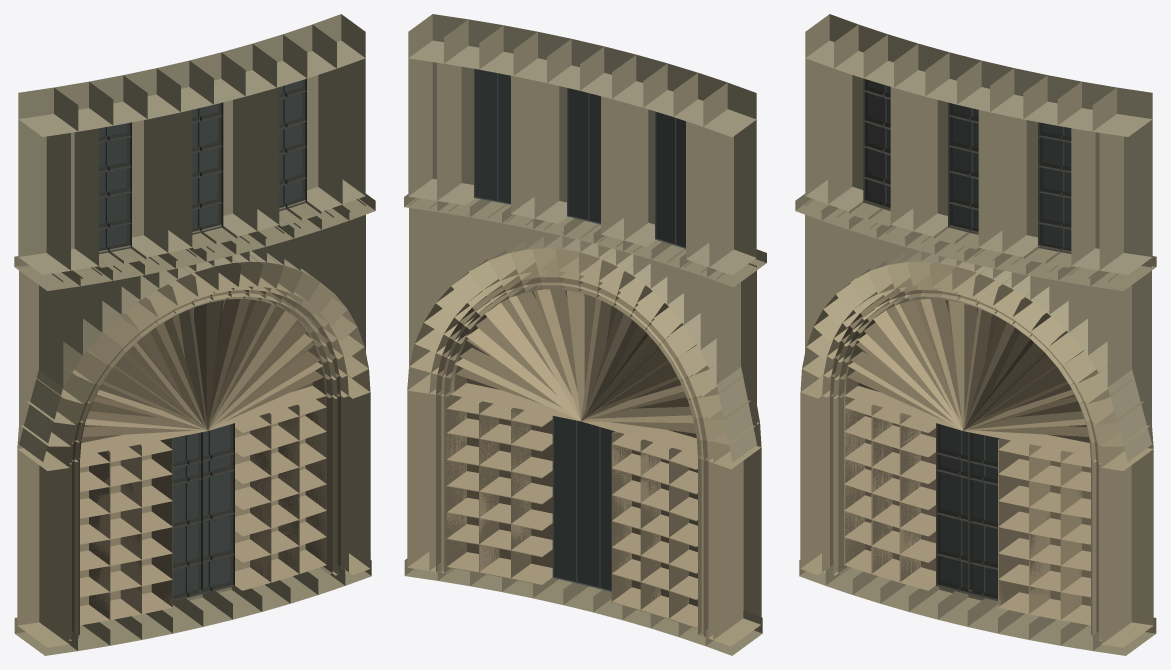
File: jingan-yongxing-telephone-exchange-arched-bay-lod.glb
The picture shows the model from 3 angles, left to right: view 1: azimuth 30°, elevation 25°; view 2: azimuth 150°, elevation 25°; view 3: azimuth 330°, elevation 25°; orthographic projection.
Parts seen in each view (by area): view 1: 上海电话局大楼旧址街角叠券与三联长窗; view 2: 上海电话局大楼旧址街角叠券与三联长窗; view 3: 上海电话局大楼旧址街角叠券与三联长窗.
Part boxes in pixels (x1,y1,x2,y2): 上海电话局大楼旧址街角叠券与三联长窗: [14, 14, 375, 655]; 上海电话局大楼旧址街角叠券与三联长窗: [404, 14, 766, 655]; 上海电话局大楼旧址街角叠券与三联长窗: [795, 14, 1156, 655].
Size of the model in its own units: 3.64 by 5.74 by 0.8354.
